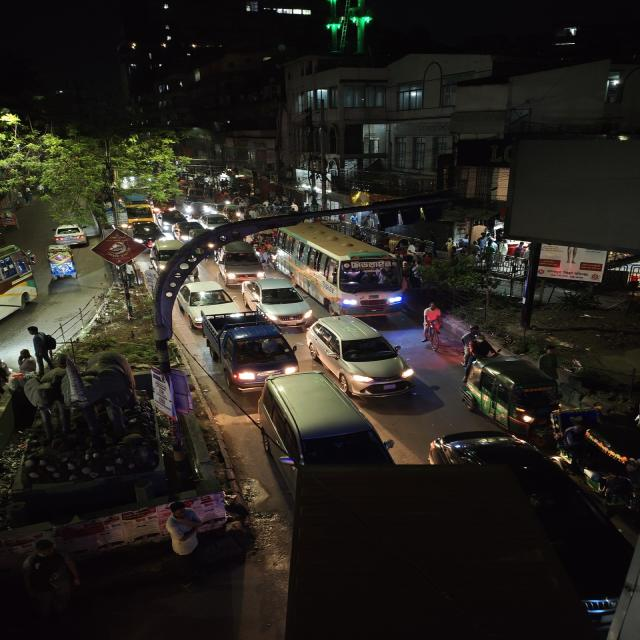bicycle: (421, 302, 448, 346)
bus: (271, 222, 408, 314), (0, 242, 42, 328)
car: (256, 372, 396, 468), (306, 314, 418, 398), (243, 276, 313, 322), (213, 241, 267, 283), (176, 279, 238, 315), (48, 222, 90, 246), (128, 221, 167, 245), (192, 214, 232, 230)
cng: (459, 351, 570, 427)
pedestrian: (11, 539, 88, 627)
pickup_van: (196, 315, 299, 385)
rickshaw: (153, 502, 221, 557), (44, 244, 82, 282), (0, 205, 21, 232)
truck: (117, 191, 158, 224)
